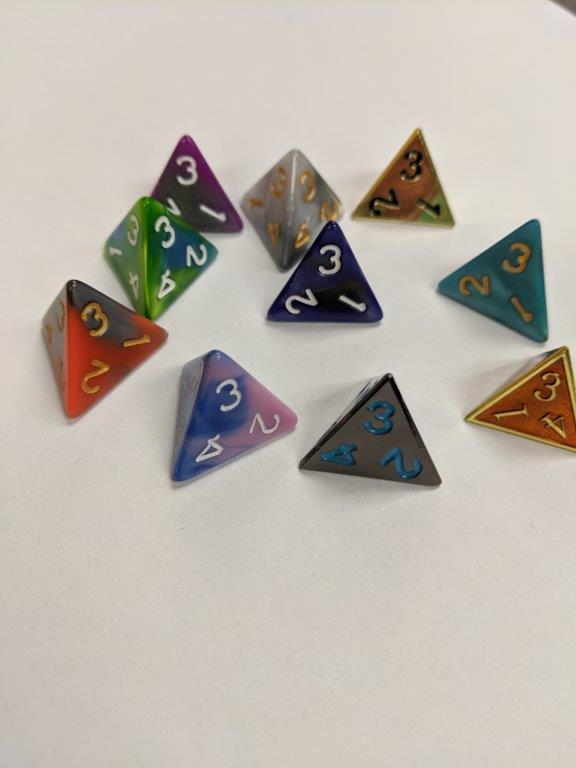d4-3: (35, 278, 168, 419), (299, 370, 446, 492), (169, 349, 297, 484), (434, 207, 550, 342), (99, 195, 226, 318), (257, 217, 384, 325), (460, 342, 576, 456), (237, 143, 338, 267), (347, 126, 458, 231), (143, 127, 248, 237)
